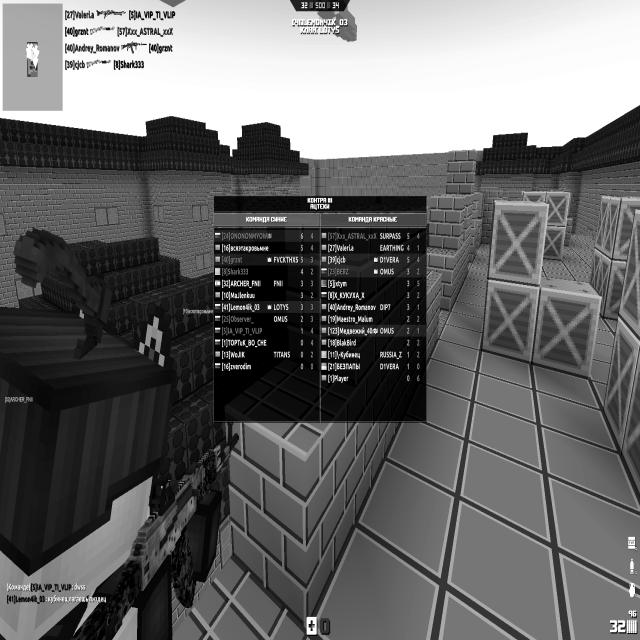Head: (0, 305, 177, 577)
